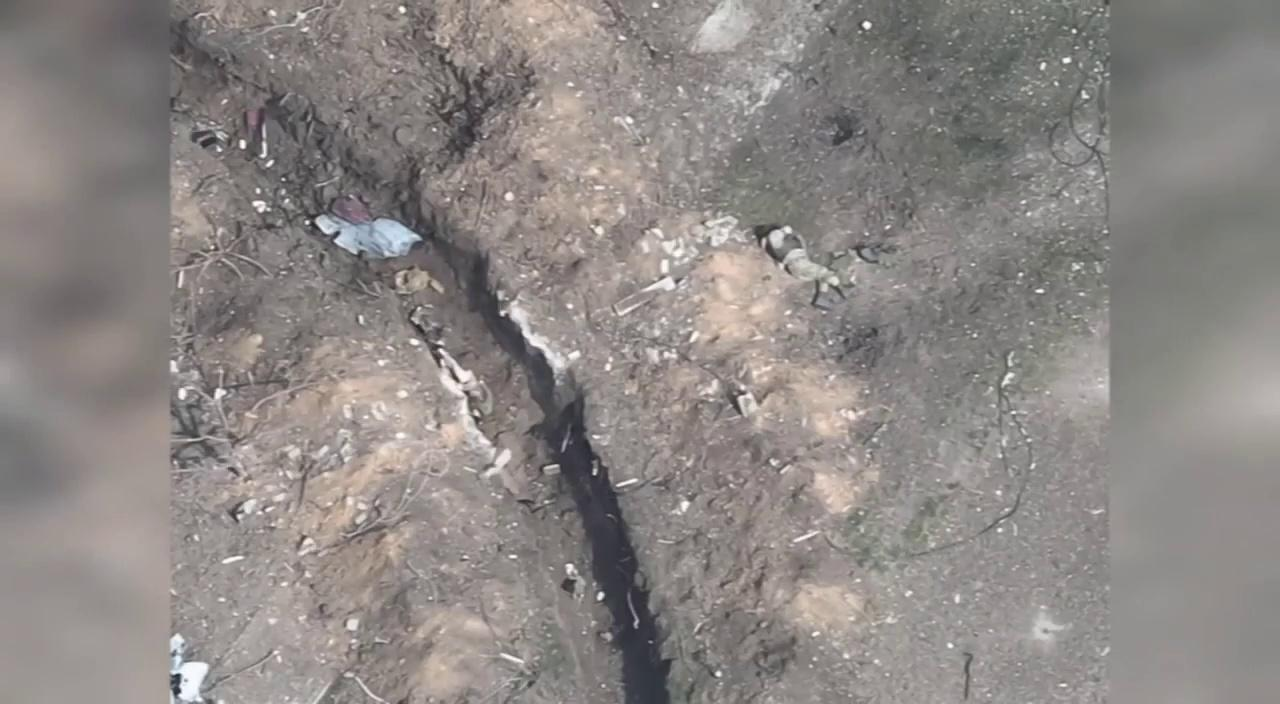person: (760, 226, 856, 311)
trench: (171, 21, 677, 701)
